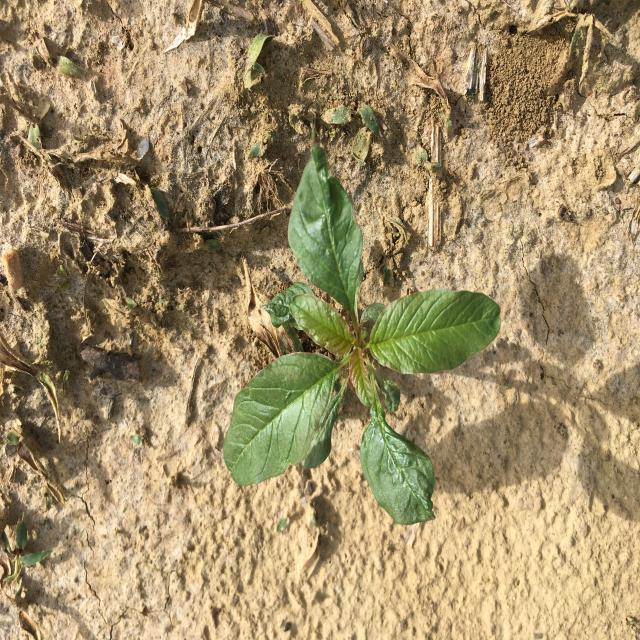Waterhemp: (223, 127, 501, 526)
